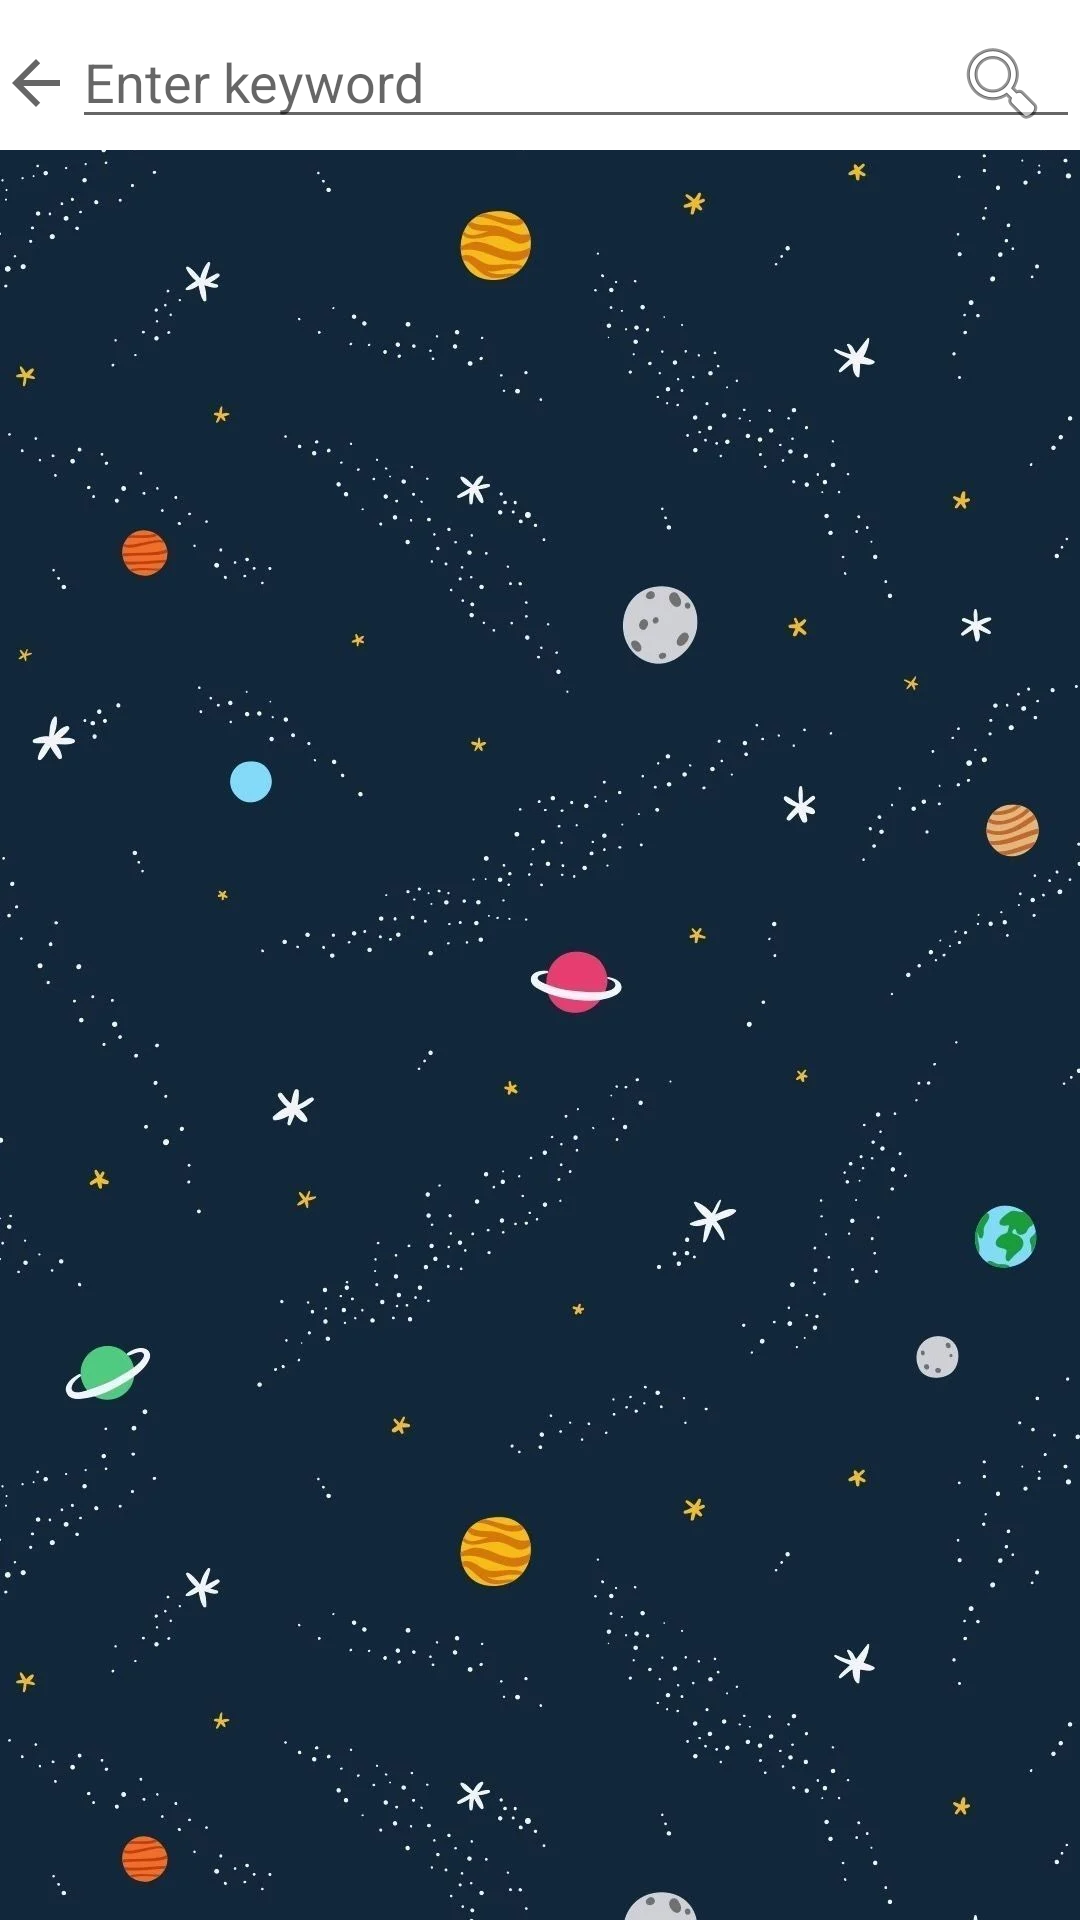

Icons on this 1080 × 1920 Android screen, each with its box as (x1, y1, x2, y2):
search: (954, 48, 1050, 119)
